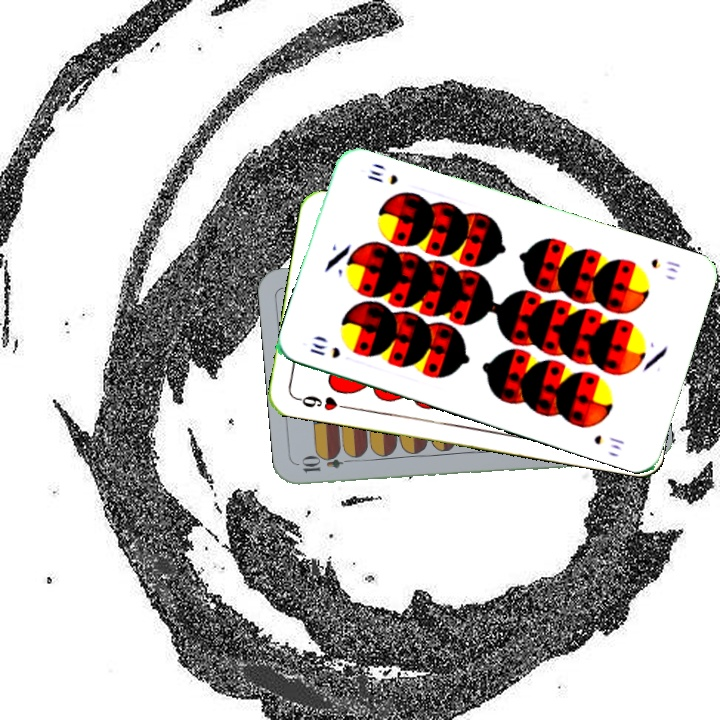E10: (297, 453, 357, 475)
H9: (292, 391, 351, 414)
S10: (306, 338, 343, 361), (647, 254, 683, 276)
